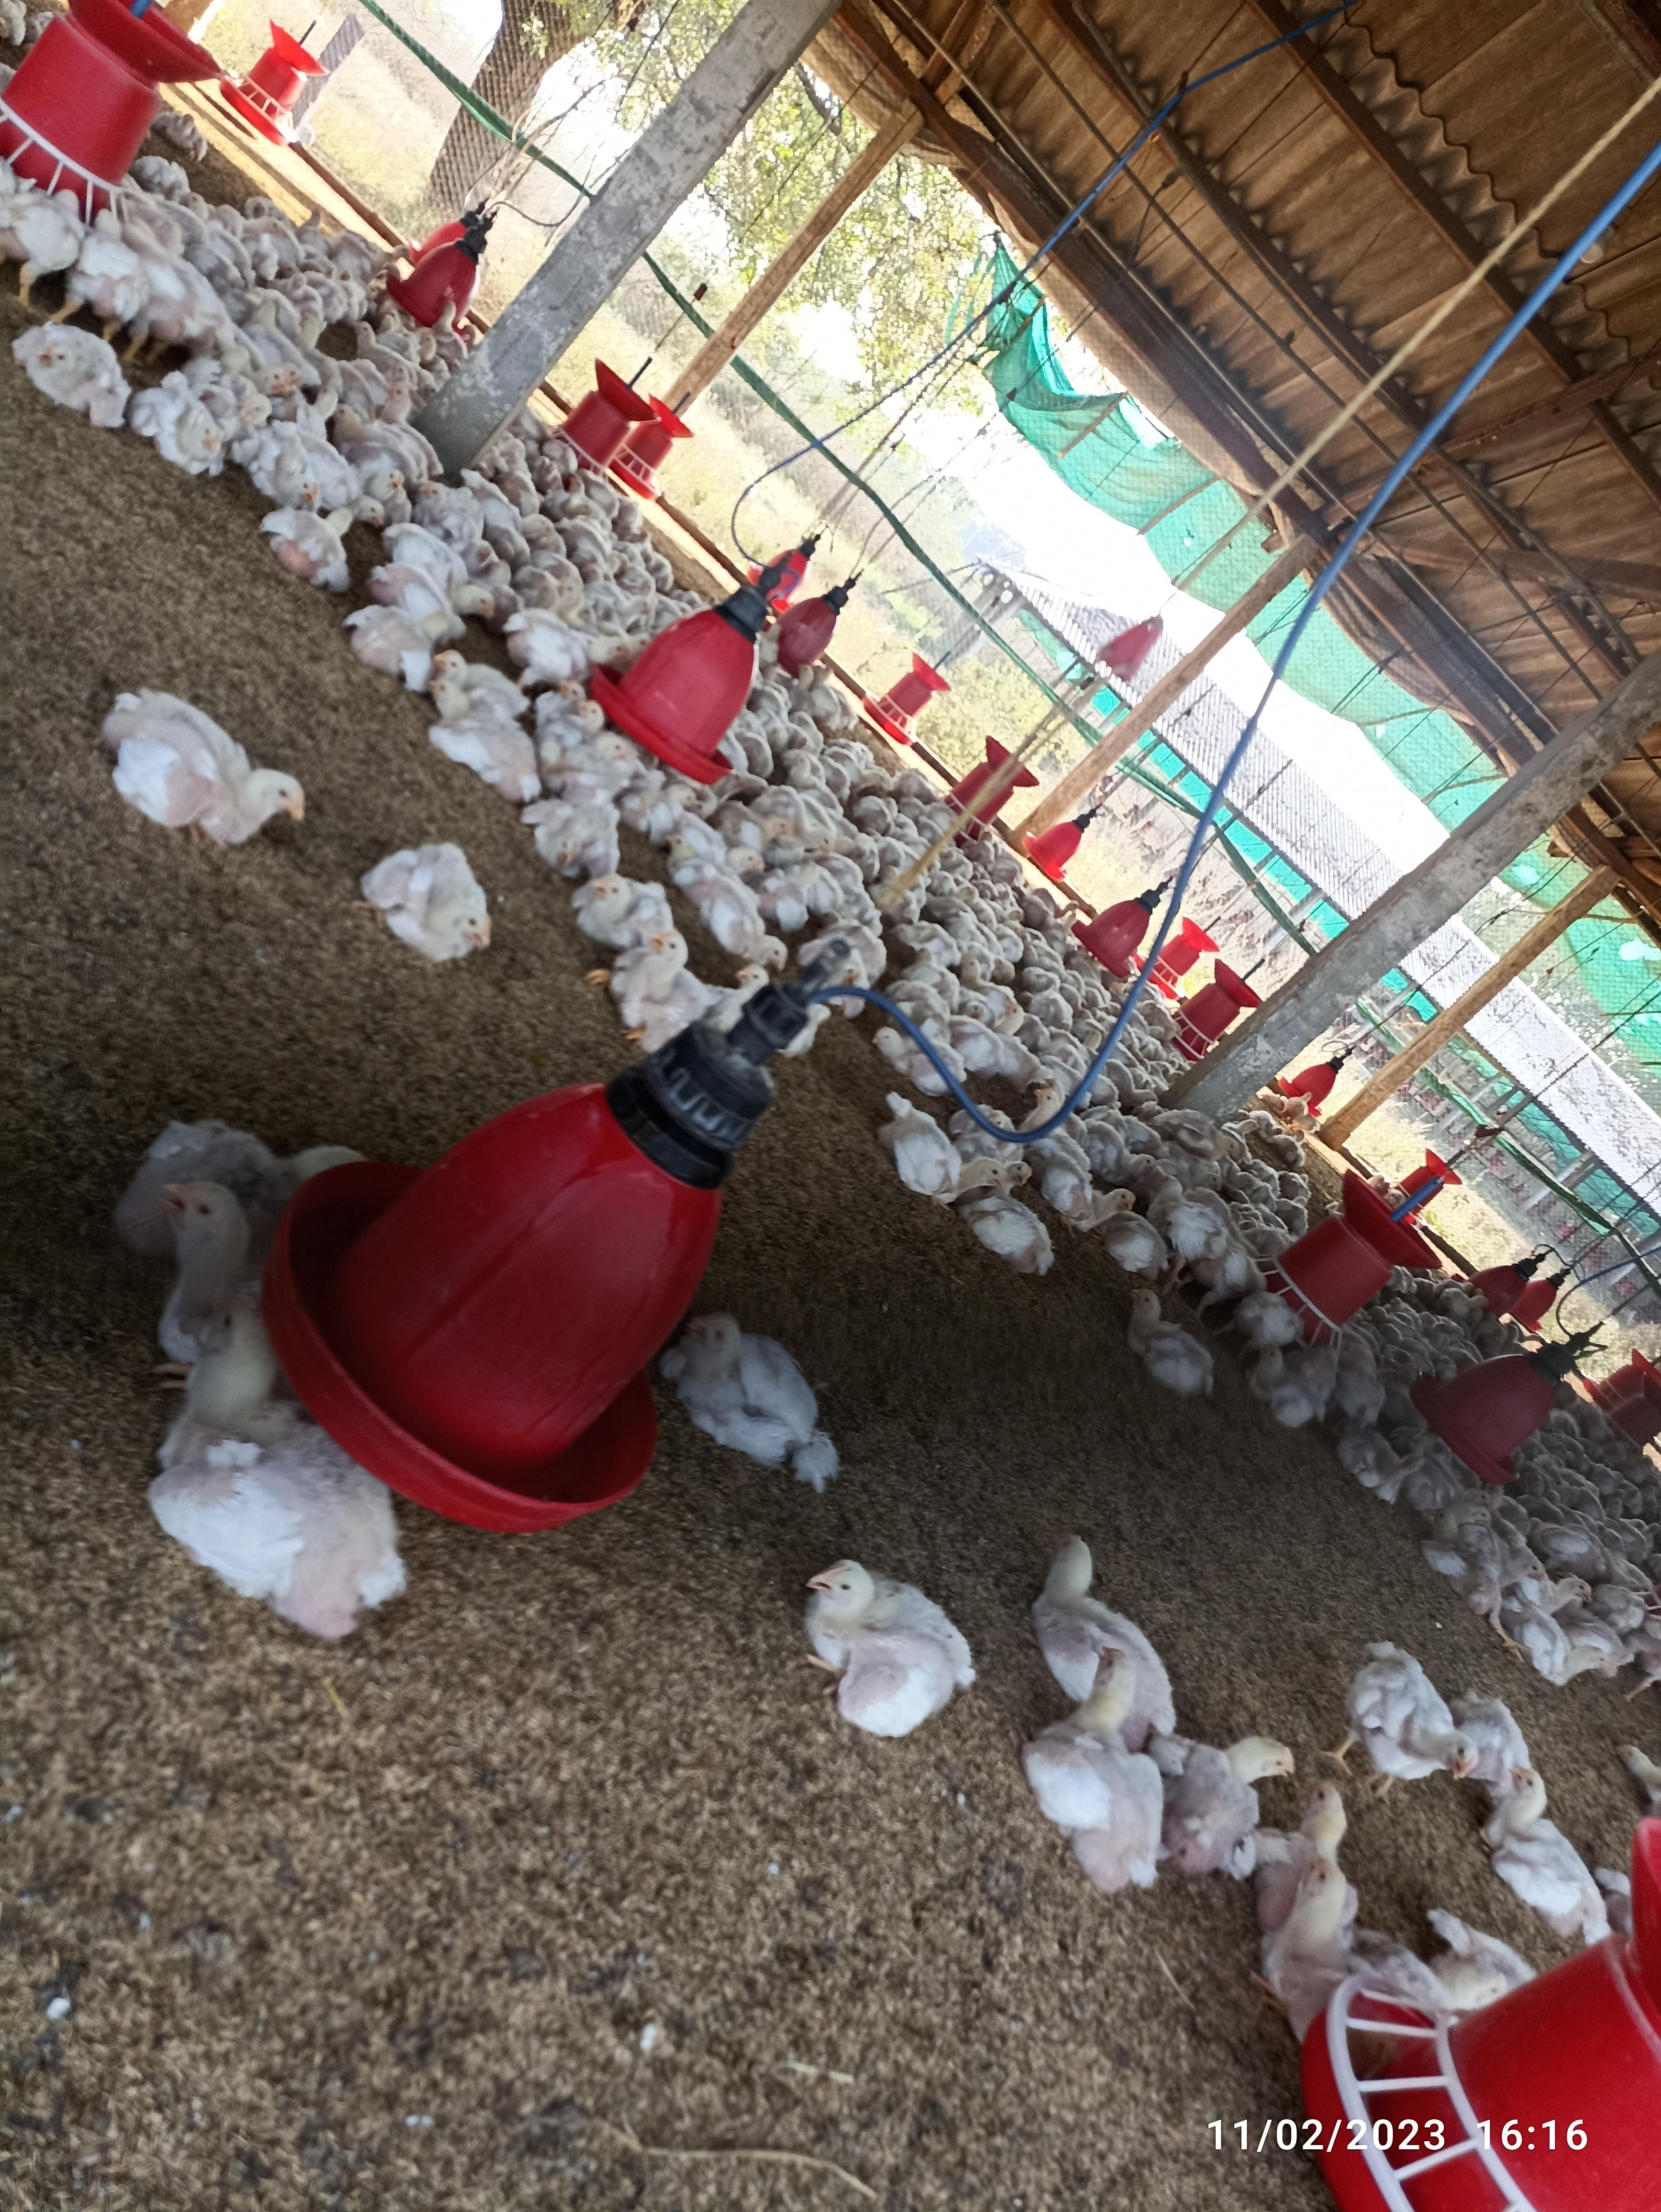Pollos: (145, 1298, 394, 1614), (99, 684, 316, 851), (1026, 1640, 1165, 1889), (677, 1312, 848, 1488), (803, 1558, 972, 1727), (1256, 1781, 1357, 1989), (1497, 1760, 1614, 1938), (1150, 1741, 1284, 1872), (1363, 1640, 1473, 1786), (352, 841, 487, 959), (422, 670, 543, 797), (888, 1103, 1019, 1198), (696, 851, 787, 968), (26, 317, 119, 427), (1445, 1516, 1553, 1607), (1124, 1284, 1207, 1399), (140, 368, 218, 473), (262, 492, 349, 586), (586, 865, 677, 951), (417, 473, 483, 539)
